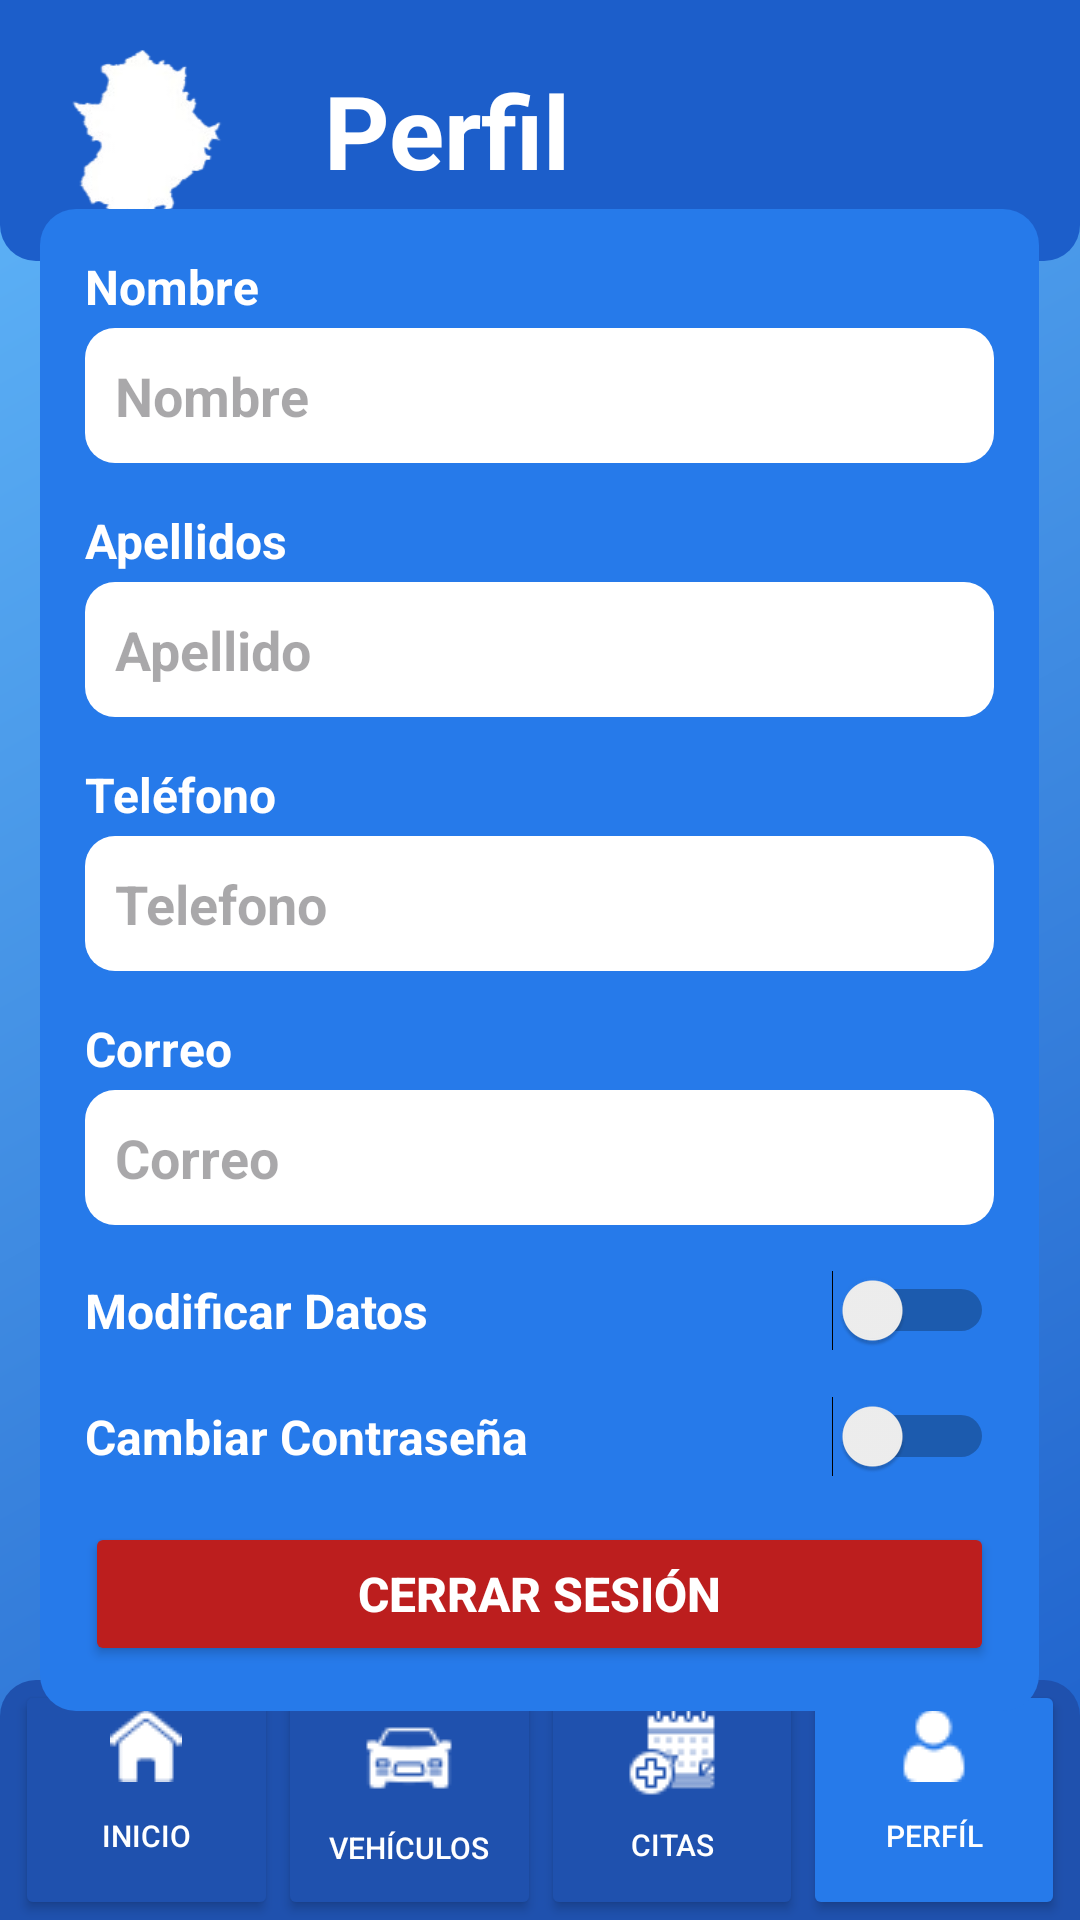

Icon bounding boxes for this 1080 × 1920 phone screenshot, format [x1,y1,x2,y2]:
logito: [44,50,276,229]
